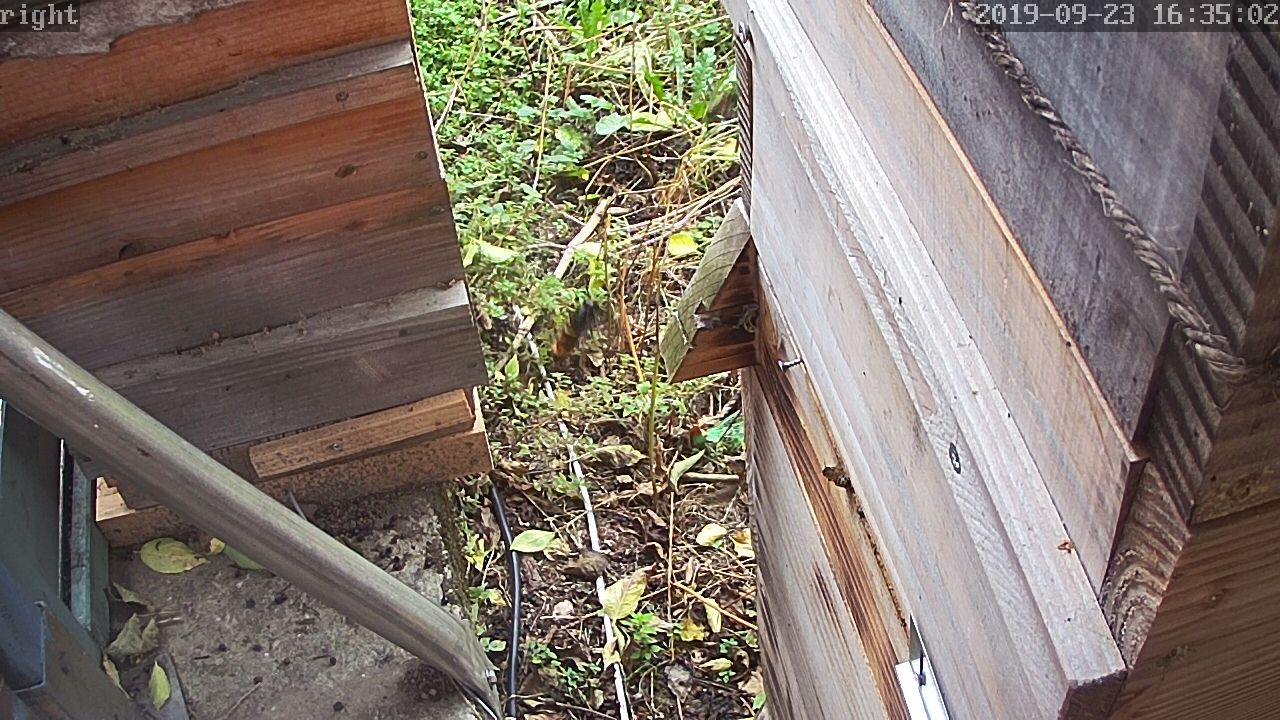bee: (817, 459, 845, 488)
hornet: (541, 290, 599, 371)
